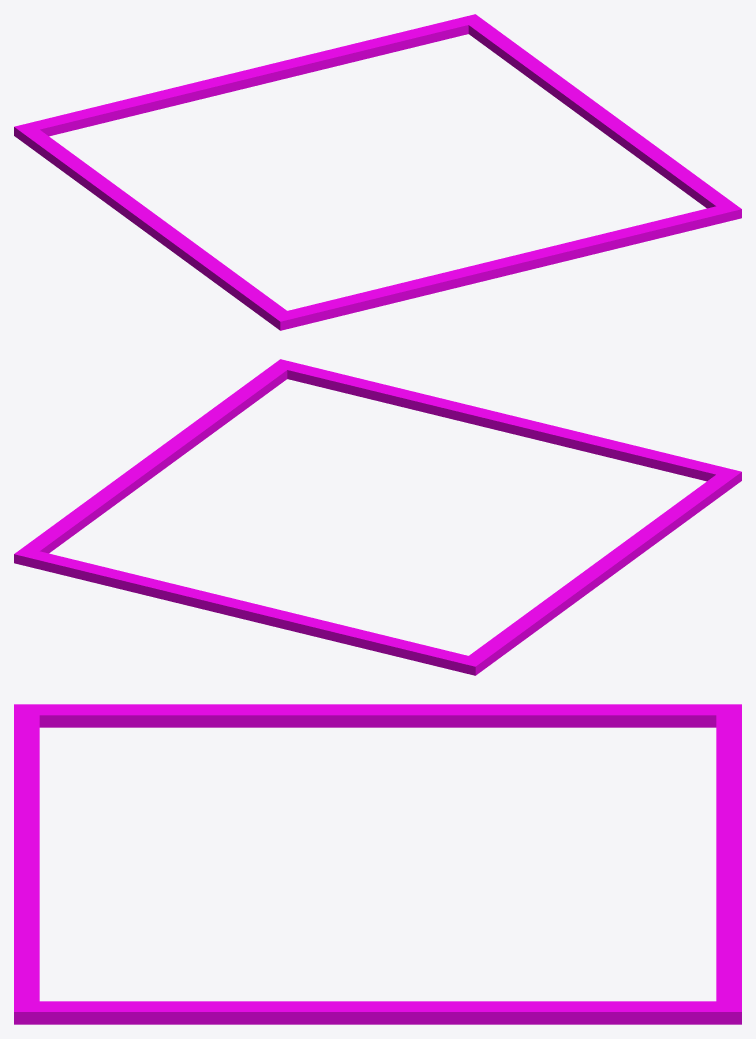
File: frame-skin-11.glb
The picture shows the model from 3 angles, top to bottom: view 1: azimuth 30°, elevation 25°; view 2: azimuth 150°, elevation 25°; view 3: azimuth 270°, elevation 25°; orthographic projection. The views are drawn at different scales.
Visible parts, largest first — view 1: frame-skin-11; view 2: frame-skin-11; view 3: frame-skin-11.
Boxes of the visible parts, x1=… form: frame-skin-11: x1=14, y1=14, x2=741, y2=330; frame-skin-11: x1=14, y1=359, x2=741, y2=675; frame-skin-11: x1=14, y1=704, x2=741, y2=1024.
Bounding box in the file's own units: 17 × 0.32 × 17.
Materials: 1 (1 with a texture image).
